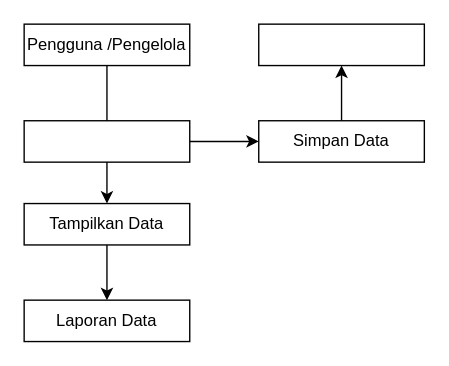
The diagram is 449 pixels wide and 366 high, and some of its shapes have lost their labels. Each missing label, with the centre of its shape:
"Database Catatan" goes at point (340, 44).
"Masukkan Data" goes at point (106, 140).
